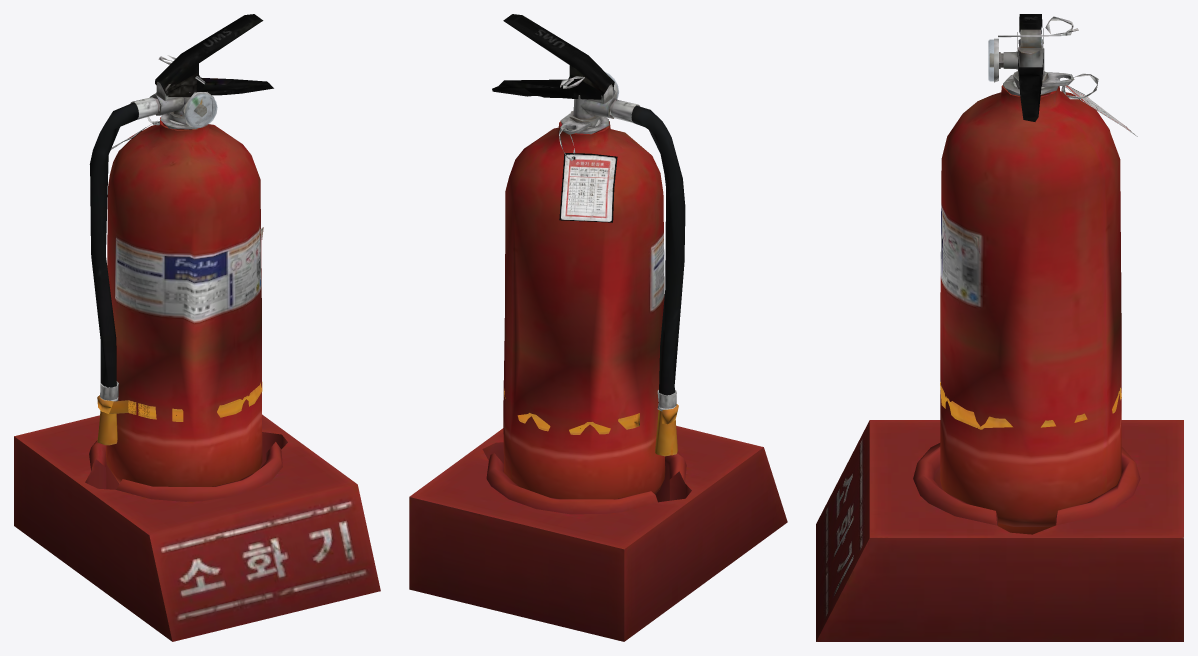
The model's file is extinguisher.glb.
3 renders of one model, left to right at view 1: azimuth 30°, elevation 25°; view 2: azimuth 150°, elevation 25°; view 3: azimuth 270°, elevation 25°, orthographic. The views are drawn at different scales.
Visible parts, largest first — view 1: korean_fire_extinguisher_01; view 2: korean_fire_extinguisher_01; view 3: korean_fire_extinguisher_01.
Boxes of the visible parts, x1,y1,x2,y2 form: korean_fire_extinguisher_01: [14, 14, 380, 641]; korean_fire_extinguisher_01: [409, 14, 787, 641]; korean_fire_extinguisher_01: [816, 14, 1183, 641].
Size of the model in its own units: 0.279 by 0.6581 by 0.3675.
3 materials, 3 textured.
